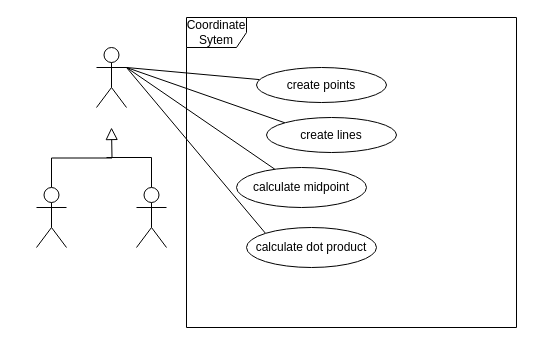
The diagram is 534 pixels wide and 345 high, and some of its shapes have lost their labels. Each missing label, with the centre of its shape:
"cartographer" belongs at [51,217].
"CoordinateUser" belongs at [111,77].
"game developer" belongs at [151,217].
